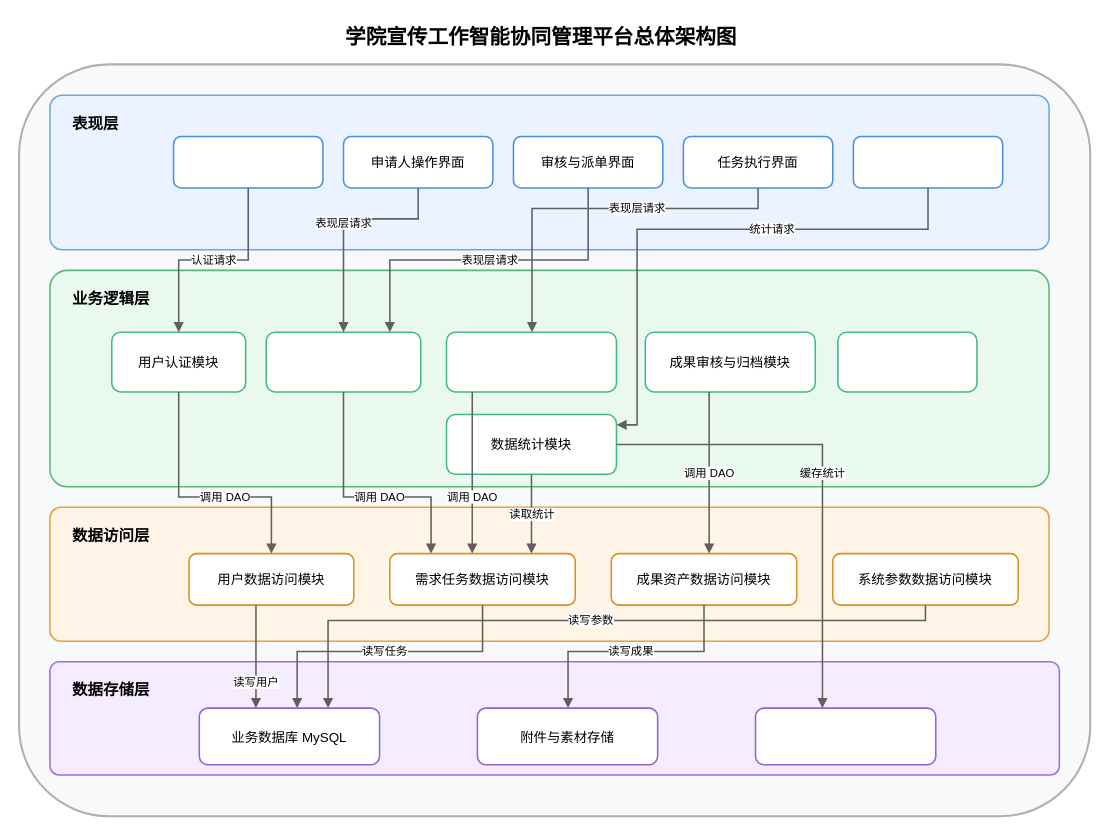
Image size: 1108x834. Some labels were removed from this diagram. The shapes that lost their labels are listed below. From the top down, each one's centre as x and y in pixels, then its label:
point (247, 161): 登录与权限入口
point (927, 161): 统计与管理界面
point (343, 361): 宣传需求管理模块
point (531, 361): 任务拆分与派单模块
point (907, 361): 提醒与日志模块
point (845, 736): 缓存与统计数据
